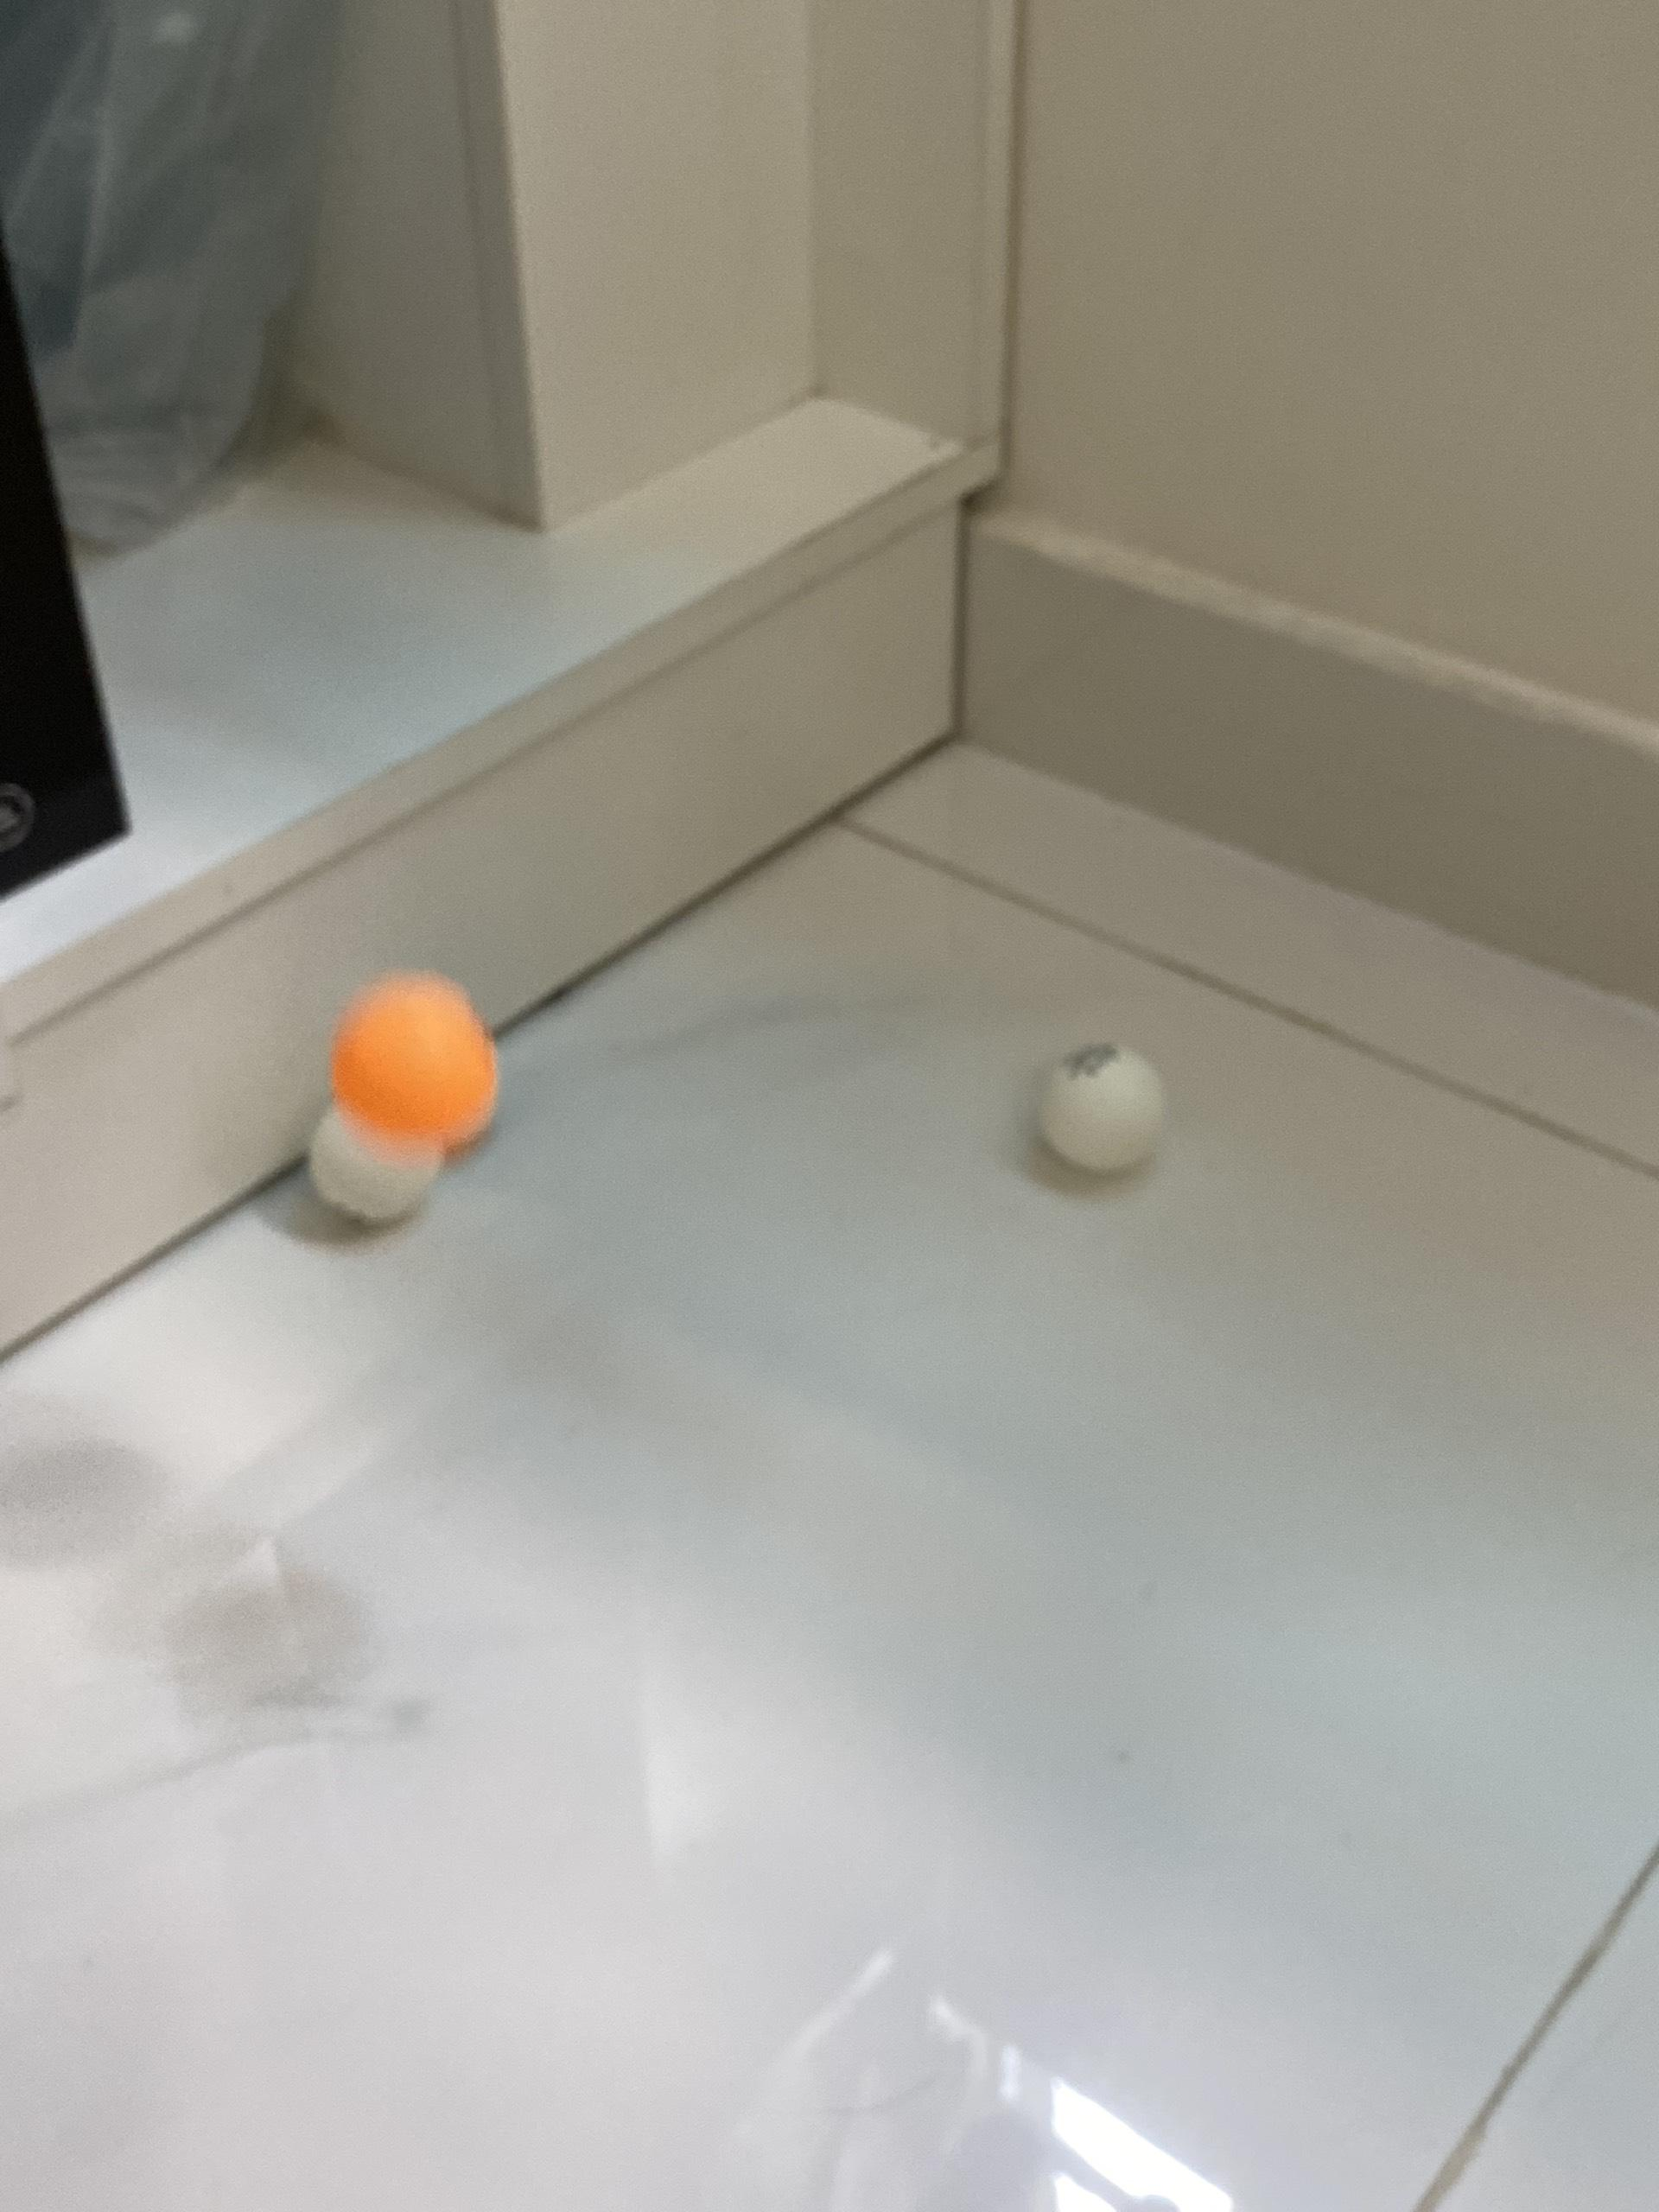oball: (336, 977, 490, 1137)
